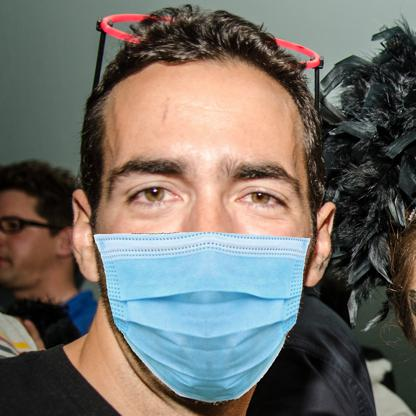mask: (88, 227, 316, 407)
